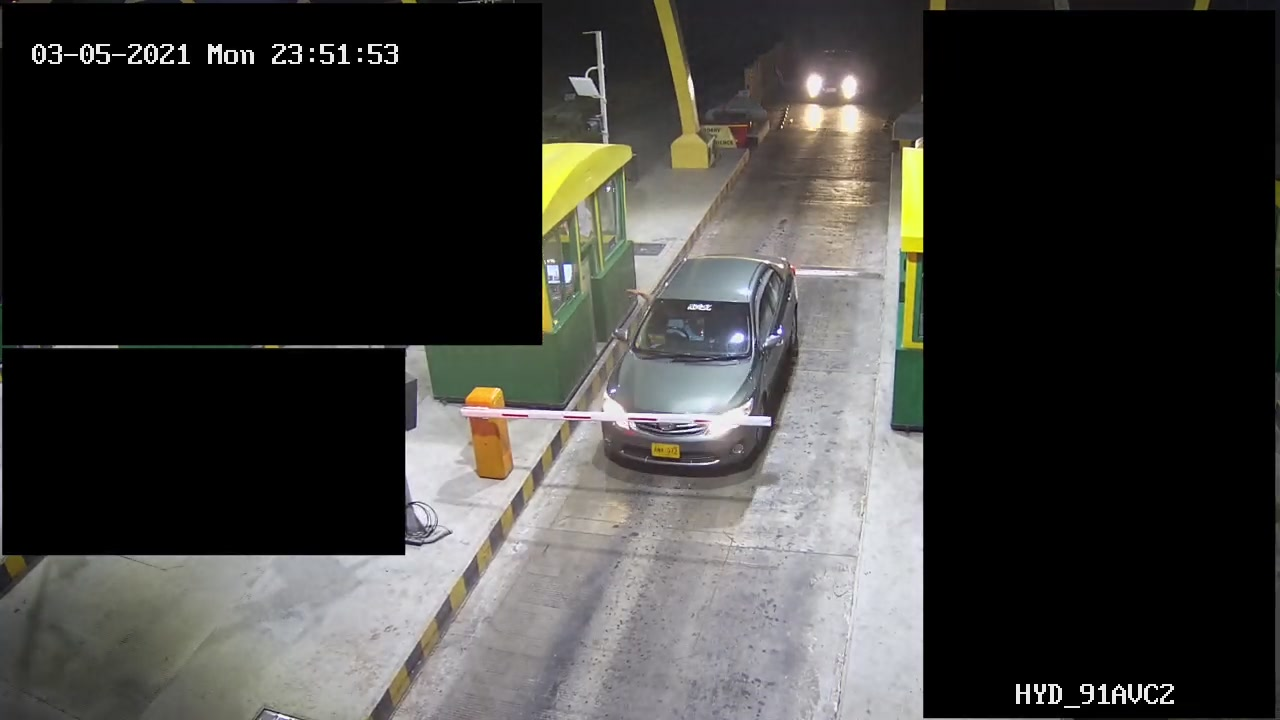F1: (595, 240, 808, 483)
